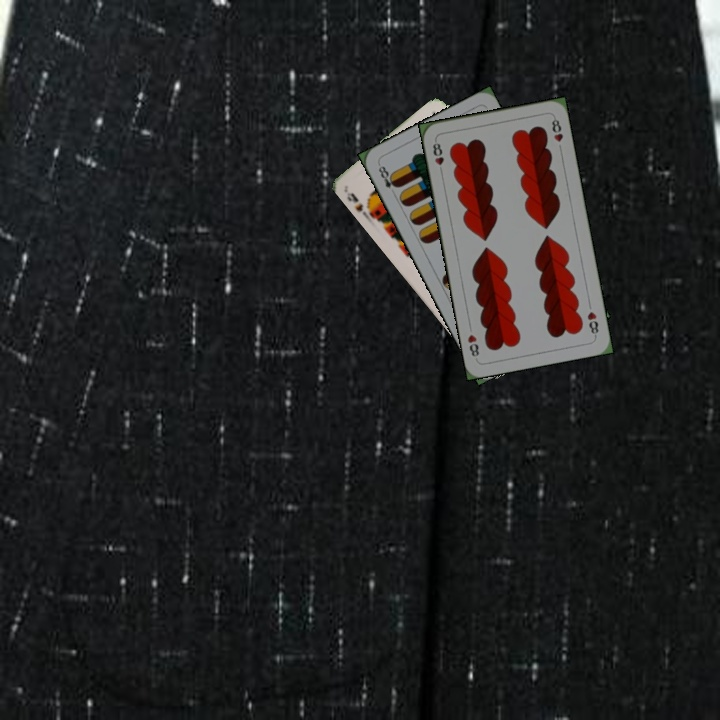E8: (374, 160, 401, 192)
H8: (429, 136, 446, 176), (583, 307, 601, 339)
S9: (343, 188, 376, 222)
